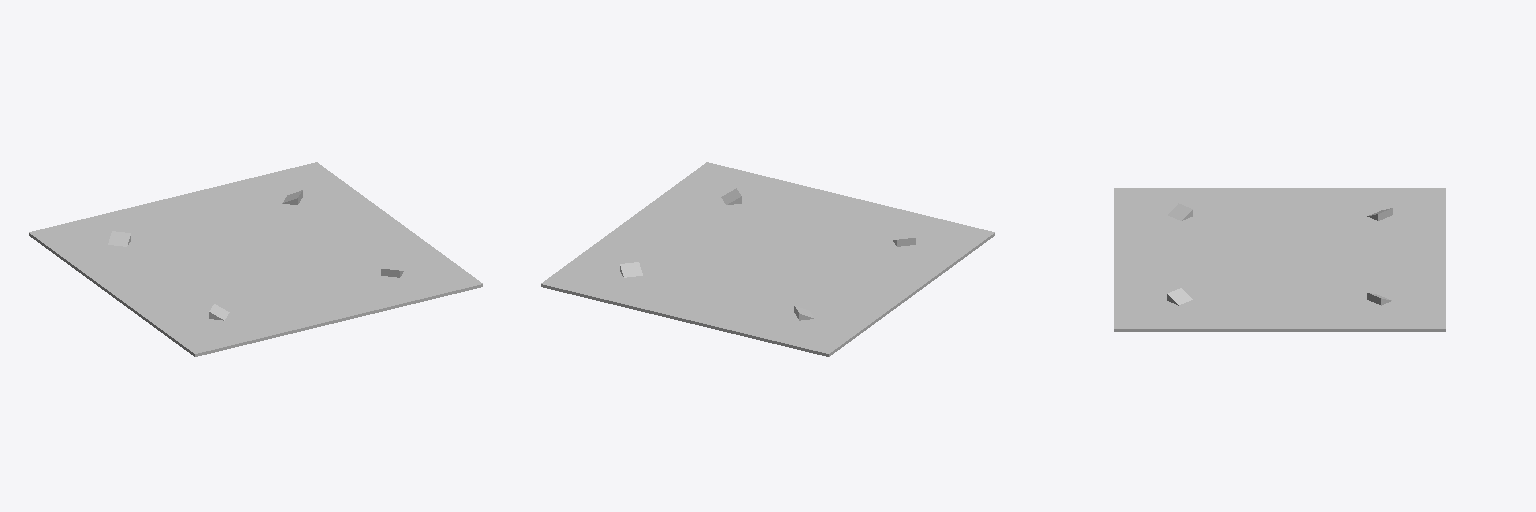
Rendered from Level0.obj.
3 renders of one model, left to right at view 1: azimuth 30°, elevation 25°; view 2: azimuth 150°, elevation 25°; view 3: azimuth 270°, elevation 25°, orthographic.
Parts seen in each view (by area): view 1: initialShadingGroup pCube5; view 2: initialShadingGroup pCube5; view 3: initialShadingGroup pCube5.
Boxes of the visible parts, x1,y1,x2,y2 form: initialShadingGroup pCube5: [29, 162, 482, 356]; initialShadingGroup pCube5: [541, 162, 994, 356]; initialShadingGroup pCube5: [1114, 188, 1445, 331].
Bounding box in the file's own units: 100 × 3.43 × 100.